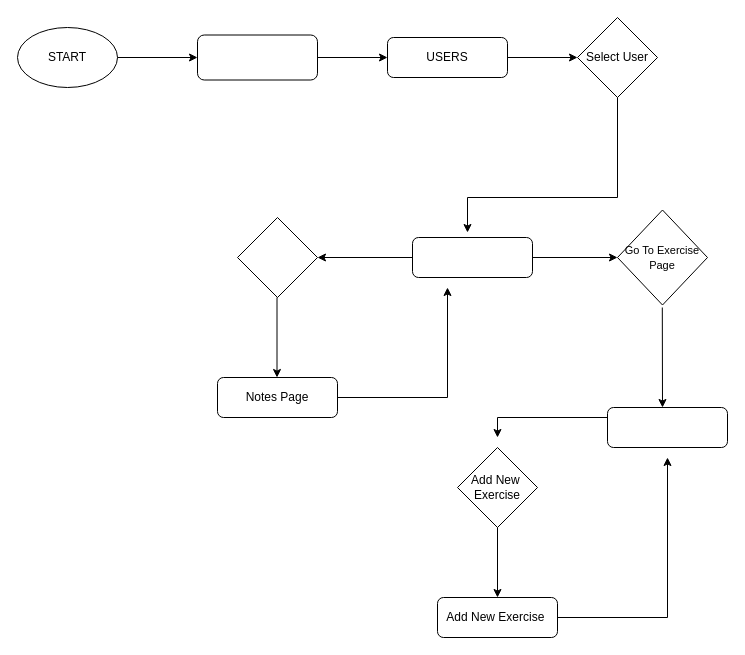
Image size: 745x655. Some labels were removed from this diagram. The centre of each missing label's shape, as x and y in pixels:
"Add A Note" goes at [277,257].
"Exercise Page" goes at [667,427].
"USER Page" goes at [472,257].
"Welcome" goes at [257,57].
